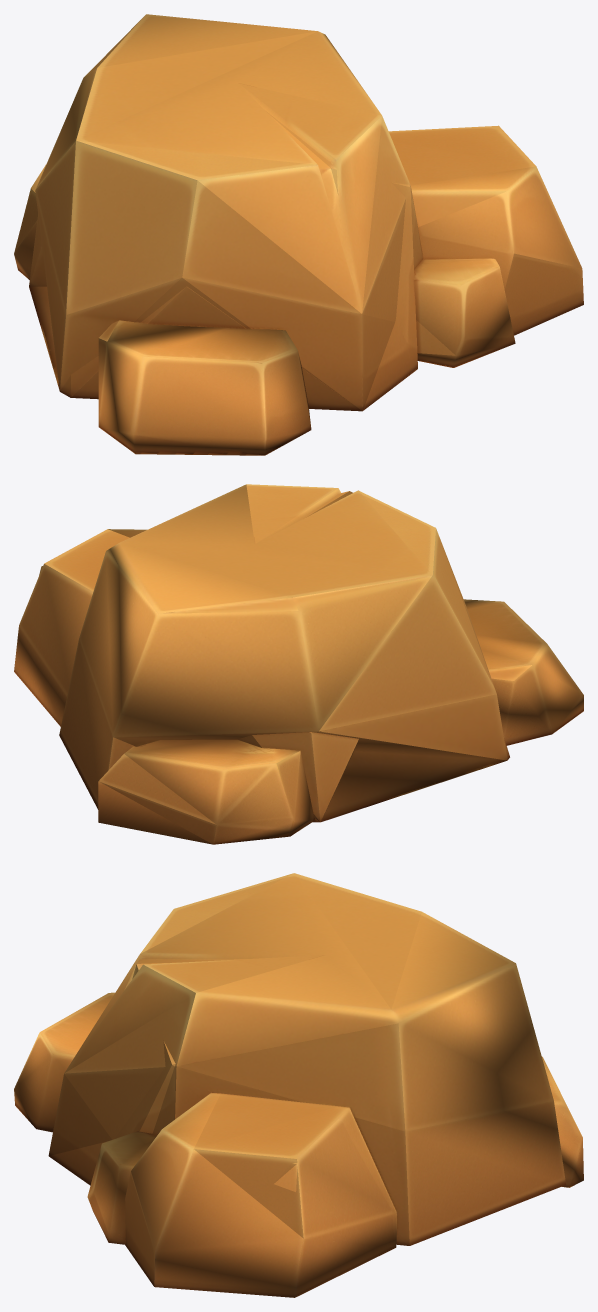
The model's file is Meshy_AI_Golden_Boulders_0818031206_texture.fbx.
3 views of the same model, one above another, from view 1: azimuth 30°, elevation 25°; view 2: azimuth 150°, elevation 25°; view 3: azimuth 270°, elevation 25° (orthographic). The views are drawn at different scales.
Visible parts, largest first — view 1: mesh_node; view 2: mesh_node; view 3: mesh_node.
Part boxes in pixels (left/top/right/bottom): mesh_node: left=14, top=14, right=583, bottom=455; mesh_node: left=14, top=484, right=583, bottom=844; mesh_node: left=14, top=873, right=583, bottom=1297.
Size of the model in its own units: 241 by 100 by 241.
1 material, 1 textured.
